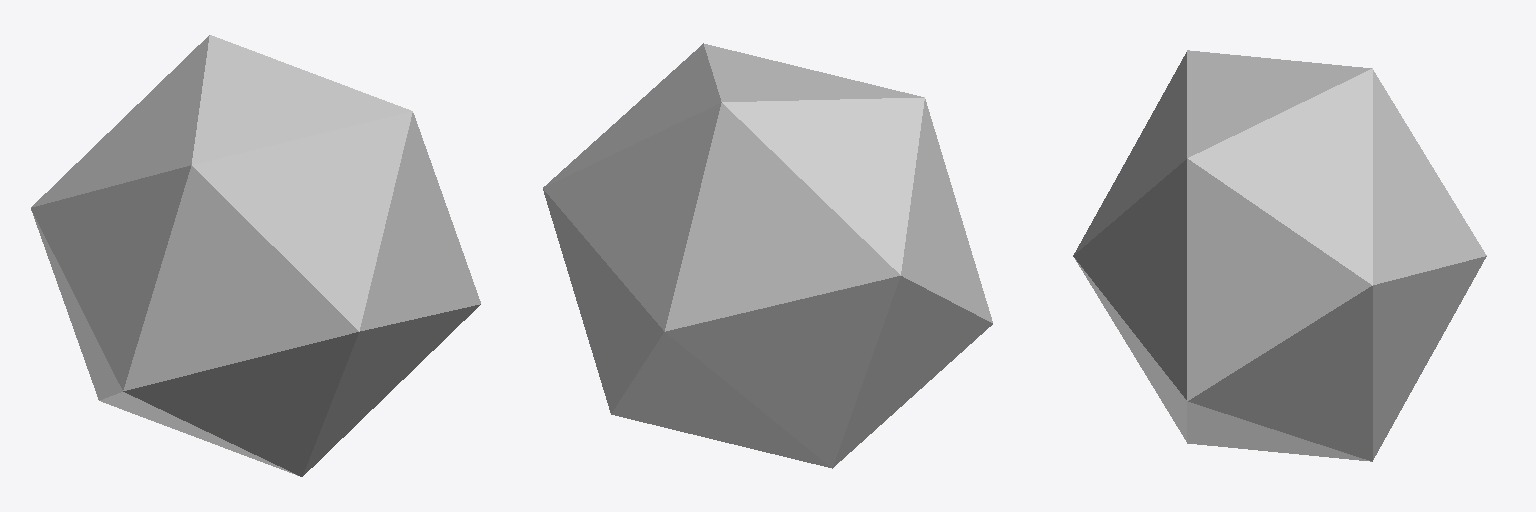
The model's file is star8.obj.
3 views of the same model, side by side, from view 1: azimuth 30°, elevation 25°; view 2: azimuth 150°, elevation 25°; view 3: azimuth 270°, elevation 25° (orthographic).
Parts seen in each view (by area): view 1: obj_0; view 2: obj_0; view 3: obj_0.
Boxes of the visible parts, x1,y1,x2,y2 form: obj_0: [31, 35, 480, 476]; obj_0: [543, 43, 992, 468]; obj_0: [1073, 50, 1486, 461].
Bounding box in the file's own units: 5 × 5 × 5.